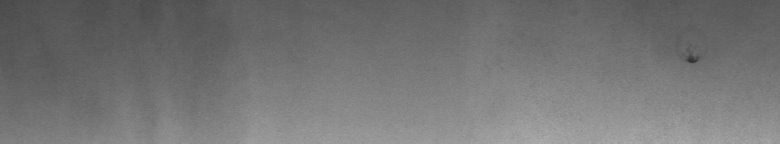fi: (681, 48, 701, 72)
